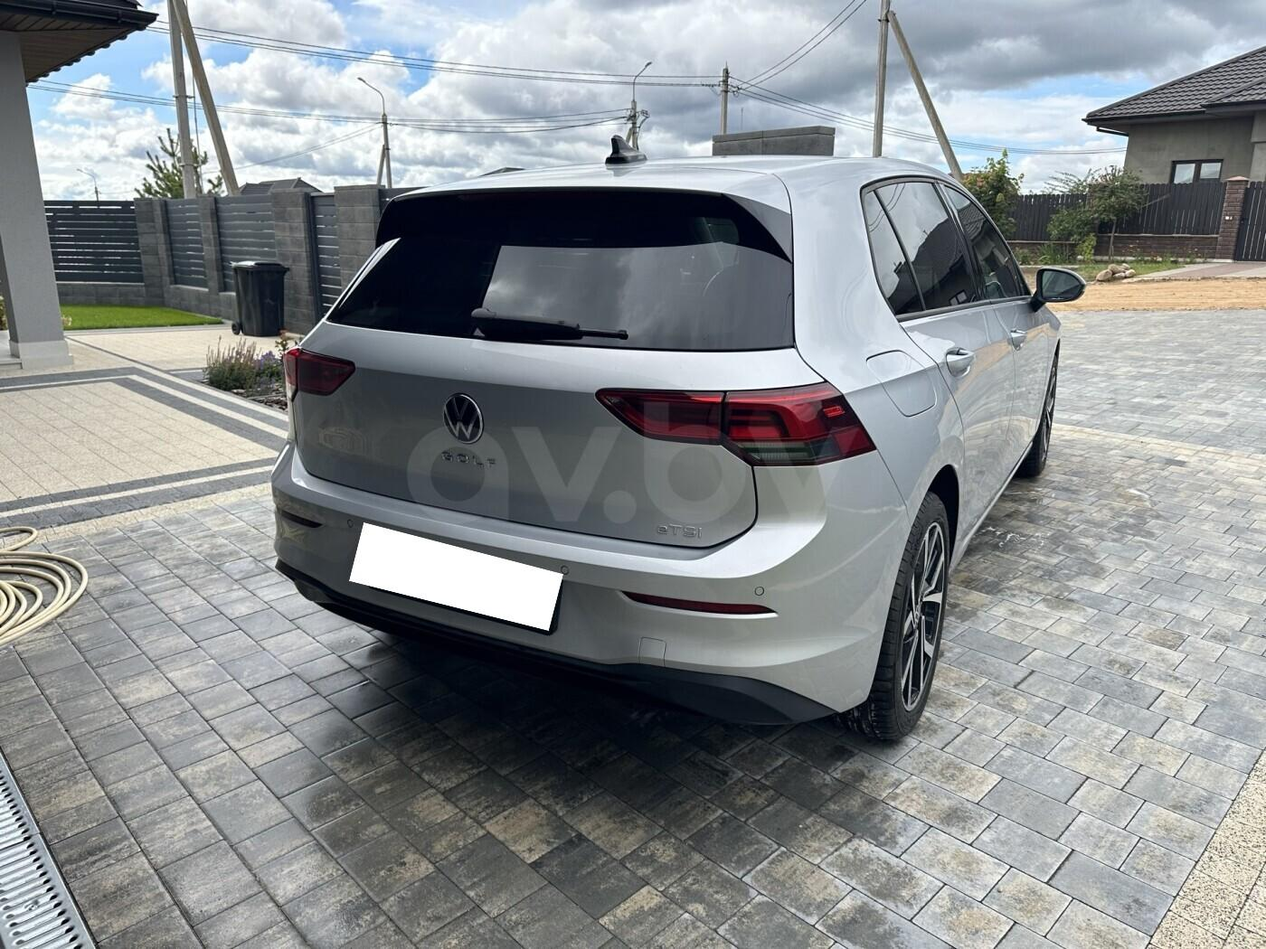Golf_2019: (250, 147, 1096, 749)
